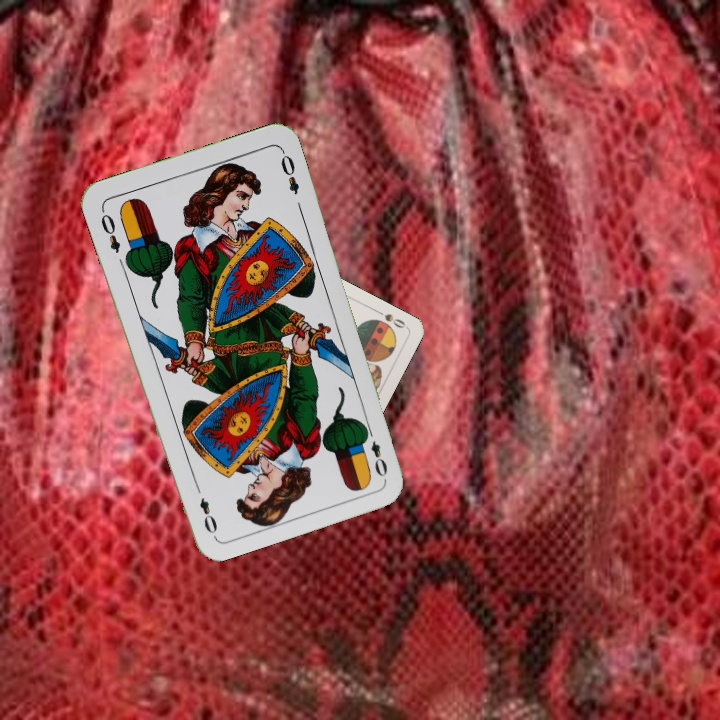EO: (360, 423, 390, 480), (96, 205, 123, 256)
SO: (372, 306, 410, 331)
